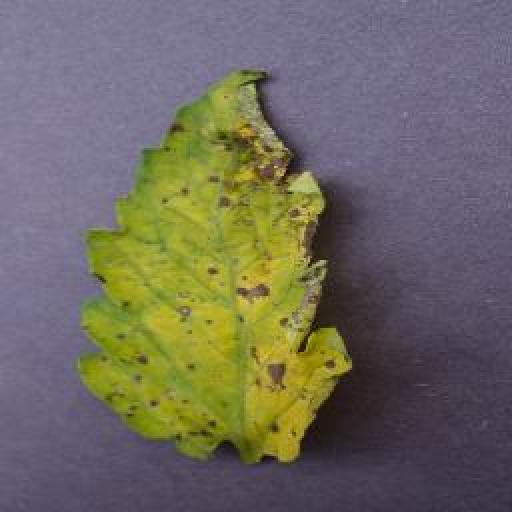Septoria: (76, 68, 351, 469)
